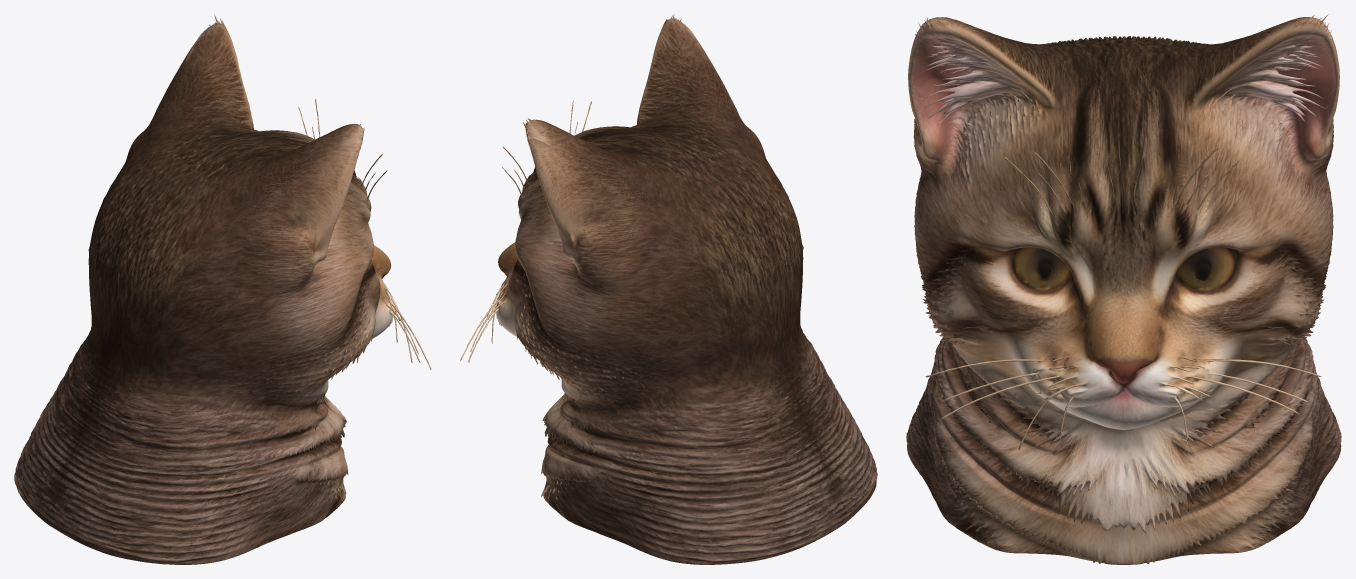
The model's file is cute-cat-segmented.glb.
3 renders of one model, left to right at view 1: azimuth 30°, elevation 25°; view 2: azimuth 150°, elevation 25°; view 3: azimuth 270°, elevation 25°, orthographic. The views are drawn at different scales.
Parts seen in each view (by area): view 1: tripo_part_0, tripo_part_1; view 2: tripo_part_0, tripo_part_1; view 3: tripo_part_0, tripo_part_1.
Part boxes in pixels (x1,y1,x2,y2): tripo_part_0: [87, 14, 431, 406]; tripo_part_1: [14, 335, 348, 564]; tripo_part_0: [460, 14, 805, 404]; tripo_part_1: [541, 333, 877, 564]; tripo_part_0: [908, 14, 1339, 450]; tripo_part_1: [906, 337, 1341, 564].
Bounding box in the file's own units: 0.8976 × 1 × 0.7425.
2 materials, 2 textured.
